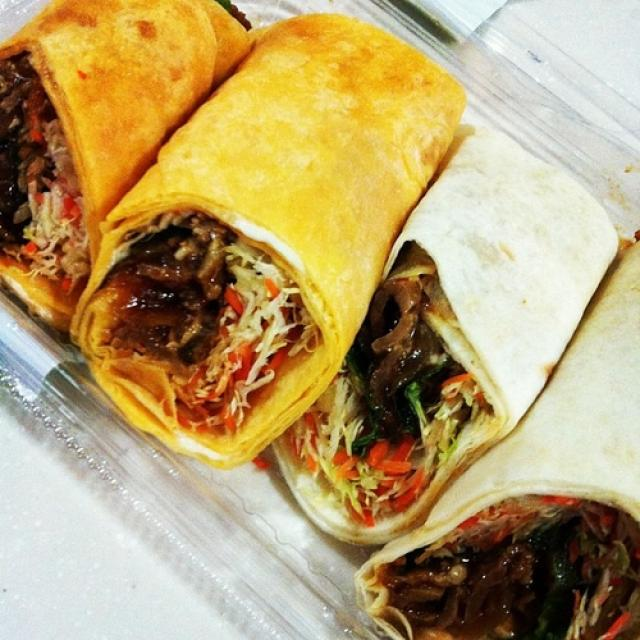面包点心: (41, 12, 603, 616)
